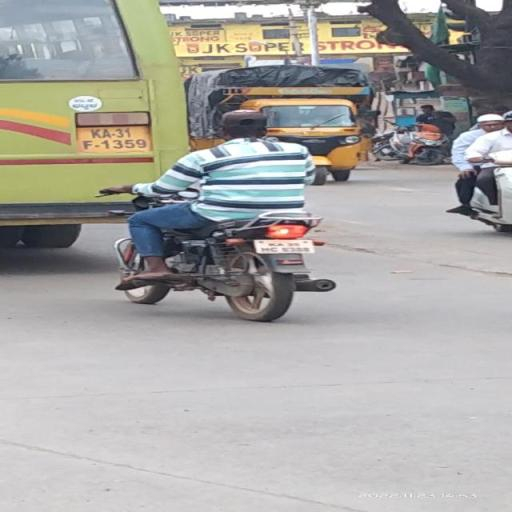bike: (88, 110, 339, 322)
numberplate: (253, 238, 316, 253)
withouthelmet: (220, 112, 267, 140)
